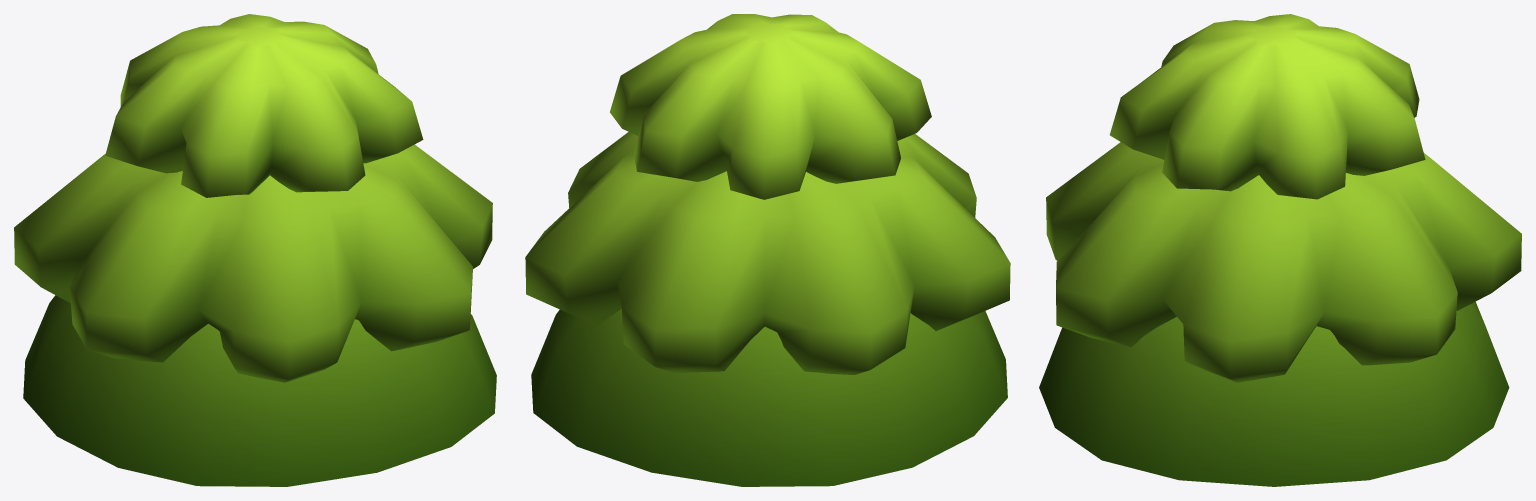
Rendered from Bush.glb.
3 renders of one model, left to right at view 1: azimuth 30°, elevation 25°; view 2: azimuth 150°, elevation 25°; view 3: azimuth 270°, elevation 25°, orthographic.
Parts seen in each view (by area): view 1: bush; view 2: bush; view 3: bush.
Part boxes in pixels (x1=…): bush: x1=14, y1=14, x2=496, y2=486; bush: x1=525, y1=14, x2=1010, y2=486; bush: x1=1039, y1=14, x2=1521, y2=486.
Bounding box in the file's own units: 0.449 × 0.3606 × 0.4489.
Materials: 1 (1 with a texture image).
